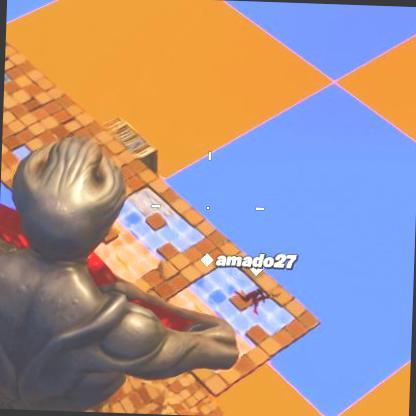person: (247, 288, 266, 318)
